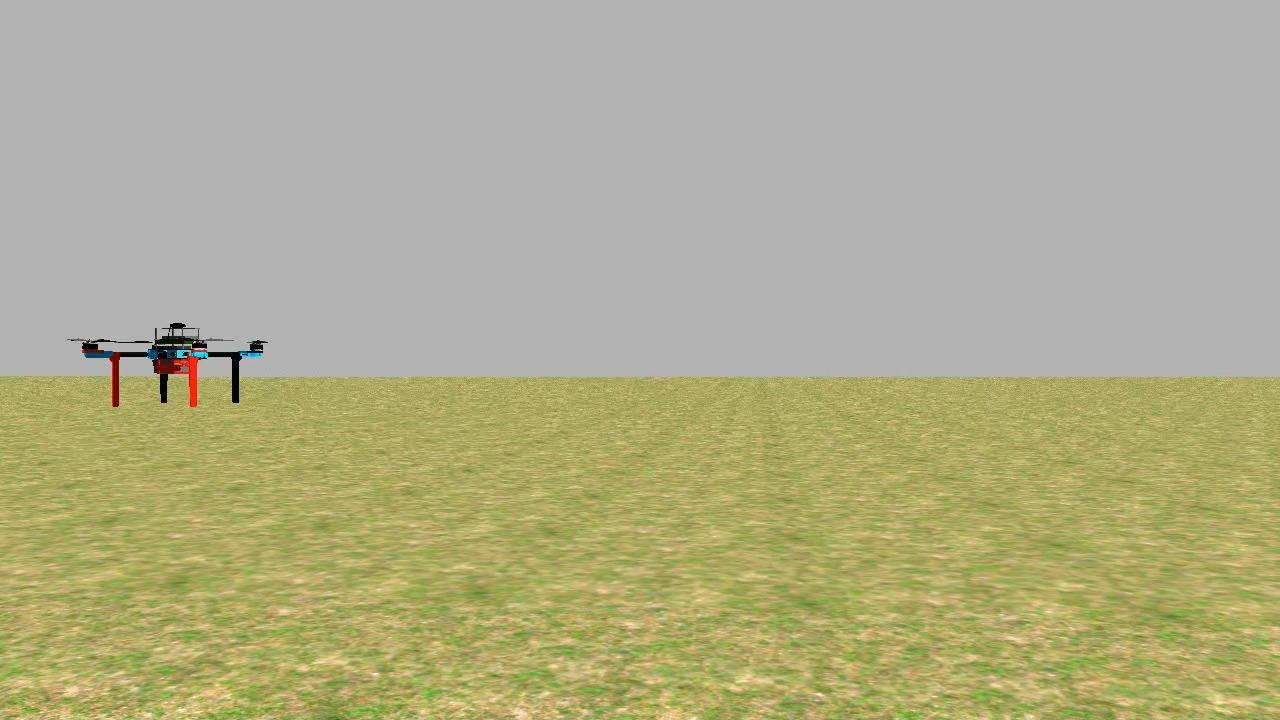UAV: (72, 310, 268, 439)
